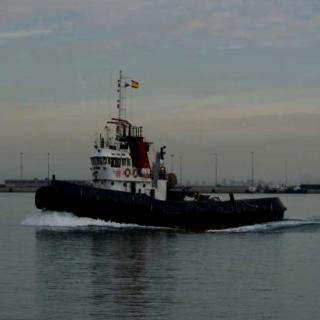Tug Boat: (30, 83, 281, 225)
